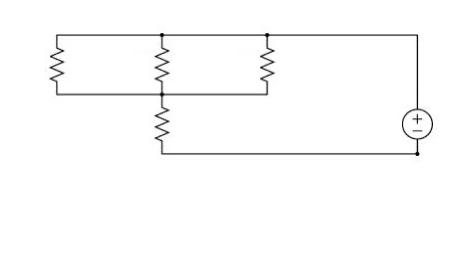resistor: (138, 90, 176, 152), (143, 33, 174, 93), (41, 32, 71, 94), (248, 32, 277, 92)
